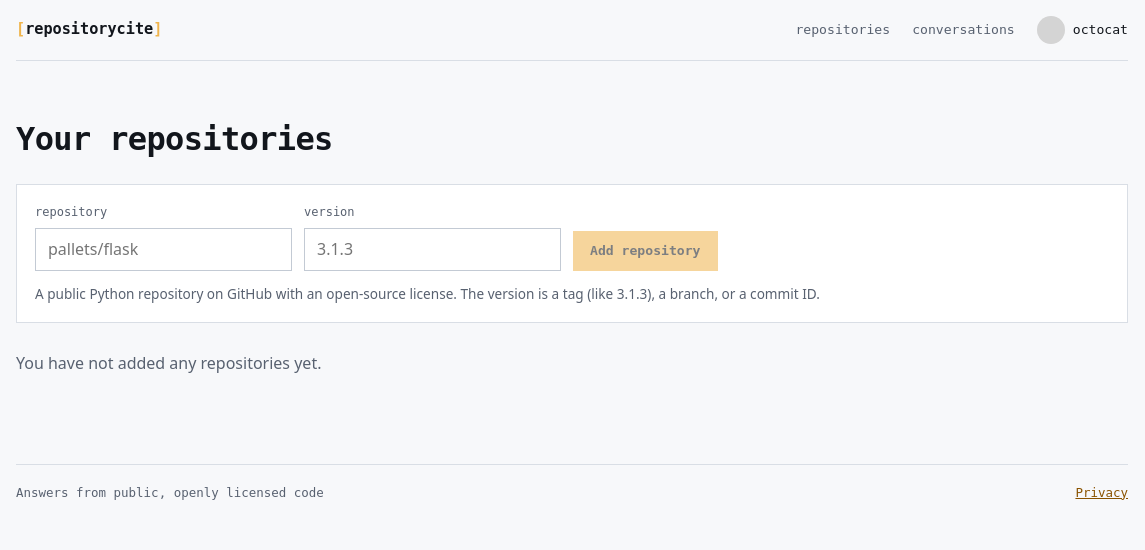
Test: adding a repository › shows the server's refusal with how long to wait
Type "pallets/click" into the field labelled "Repository".
click(164, 250); type("pallets/click")  # box 35,228 -> 292,271
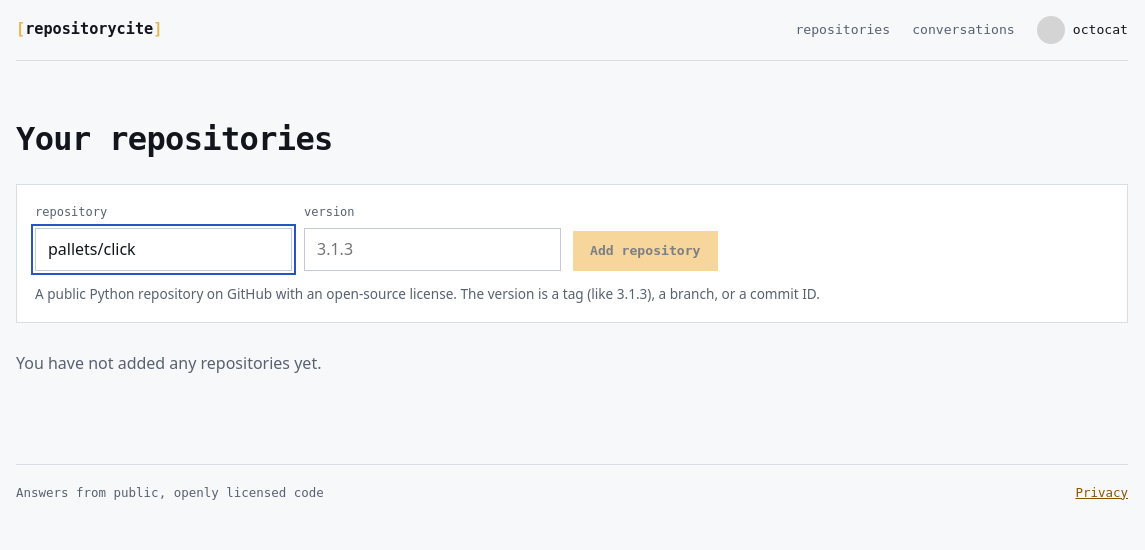
Type "8.3.0" into the field labelled "Version".
click(432, 250); type("8.3.0")  # box 304,228 -> 561,271
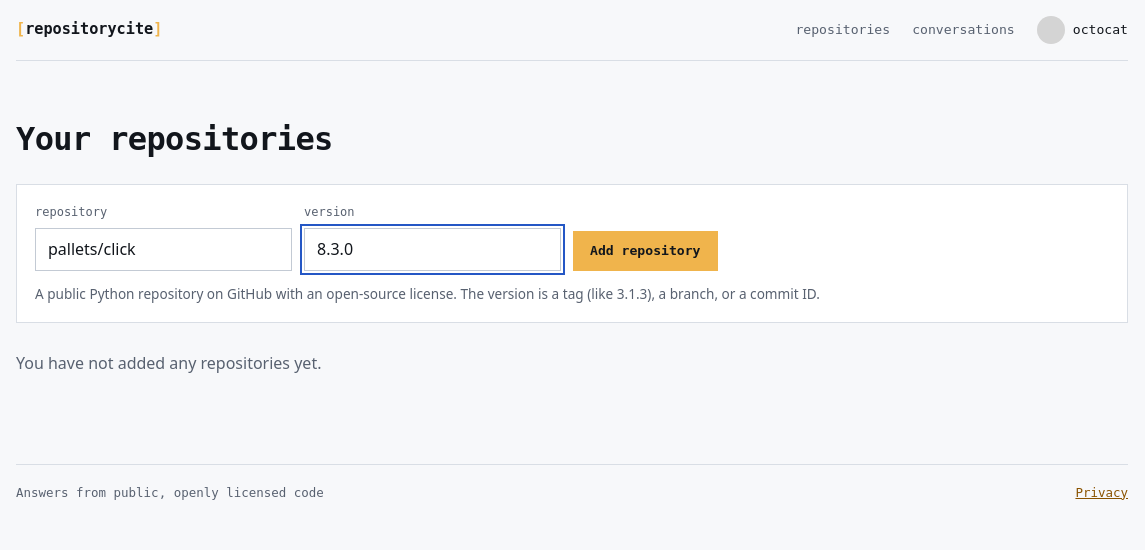
Click the button "Add repository".
click(645, 251)  # box 573,231 -> 718,271
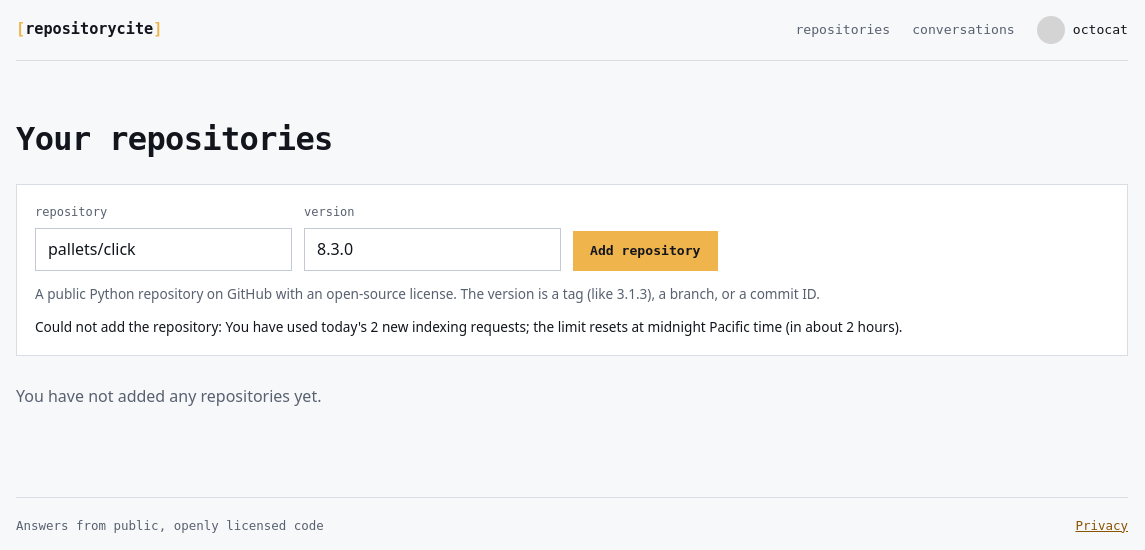
Expected: the message shows "Could not add the repository: You have used today's 2 new indexing requests; the limit resets at midnight Pacific time (in about 2 hours).", 35,317 -> 902,336
